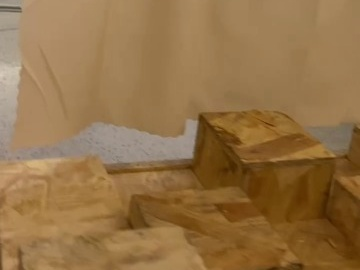curtain: (14, 0, 360, 162)
